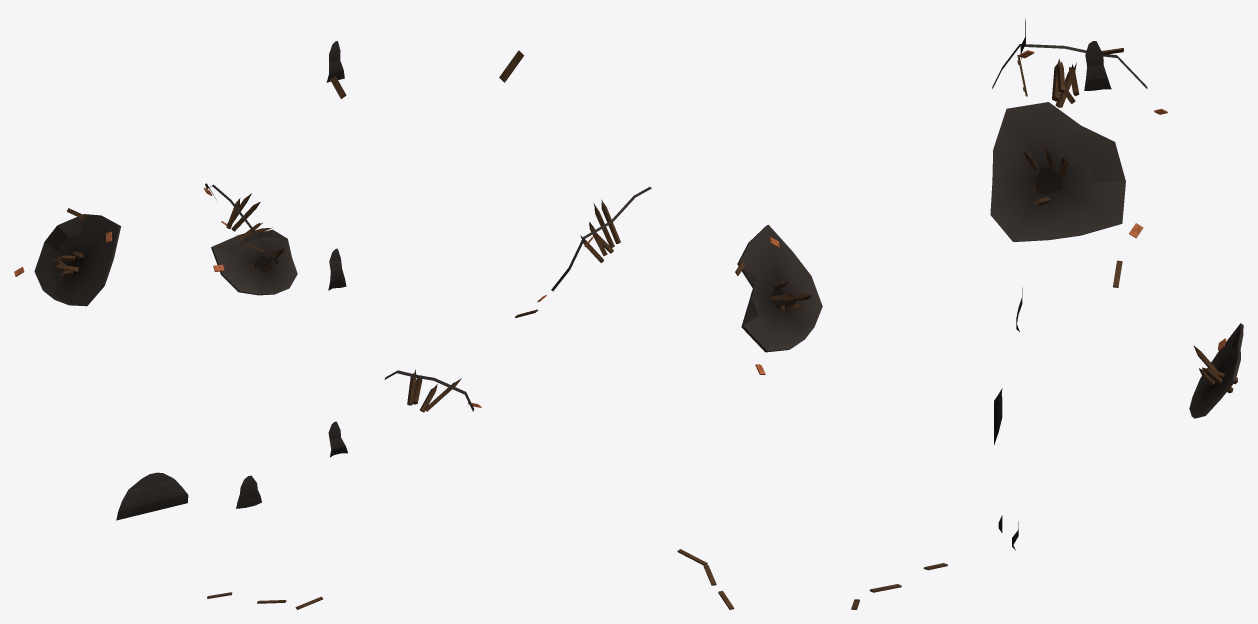
The model's file is category.bridge.xl.ruin.glb.
3 renders of one model, left to right at view 1: azimuth 30°, elevation 25°; view 2: azimuth 150°, elevation 25°; view 3: azimuth 270°, elevation 25°, orthographic. The views are drawn at different scales.
Visible parts, largest first — view 1: ruin; view 2: ruin; view 3: ruin.
Part boxes in pixels (x1=…): ruin: x1=14, y1=41, x2=347, y2=609; ruin: x1=384, y1=50, x2=822, y2=609; ruin: x1=851, y1=18, x2=1243, y2=609.
Bounding box in the file's own units: 11.94 × 17.98 × 9.79.
3 materials, 2 textured.
